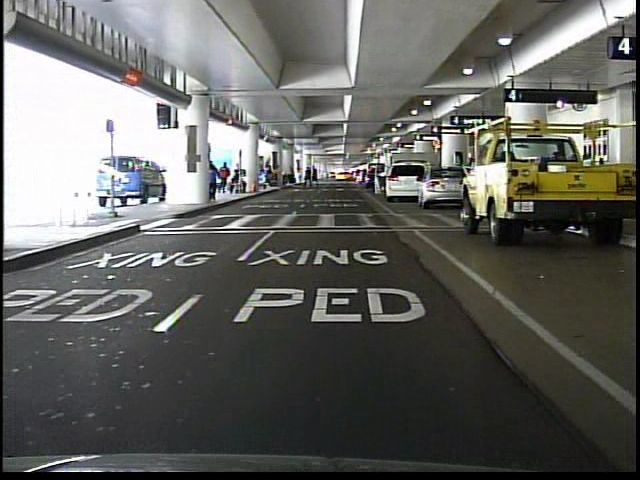person: (205, 156, 221, 204)
